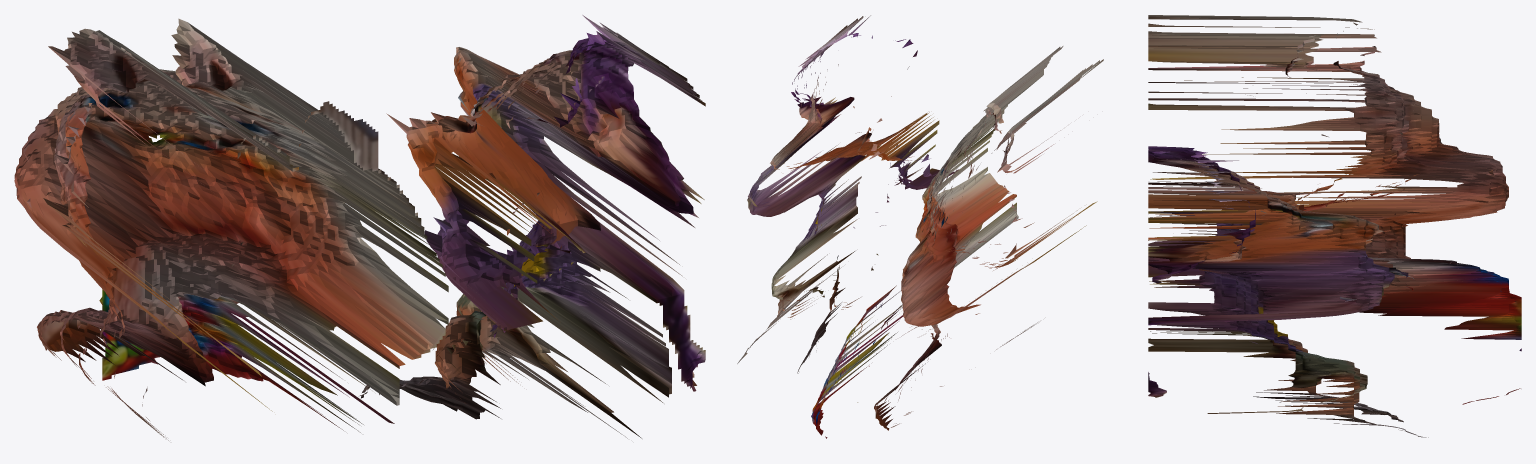
File: frame_00405.glb
3 renders of one model, left to right at view 1: azimuth 30°, elevation 25°; view 2: azimuth 150°, elevation 25°; view 3: azimuth 270°, elevation 25°, orthographic. The views are drawn at different scales.
Parts seen in each view (by area): view 1: geometry_0; view 2: geometry_0; view 3: geometry_0.
Part boxes in pixels (box(x1,y1,x2,y2)): geometry_0: box(14, 15, 705, 440); geometry_0: box(737, 15, 1103, 438); geometry_0: box(1148, 15, 1521, 437).
Bounding box in the file's own units: 0.1555 × 0.1556 × 0.16.
Materials: 1 (1 with a texture image).
